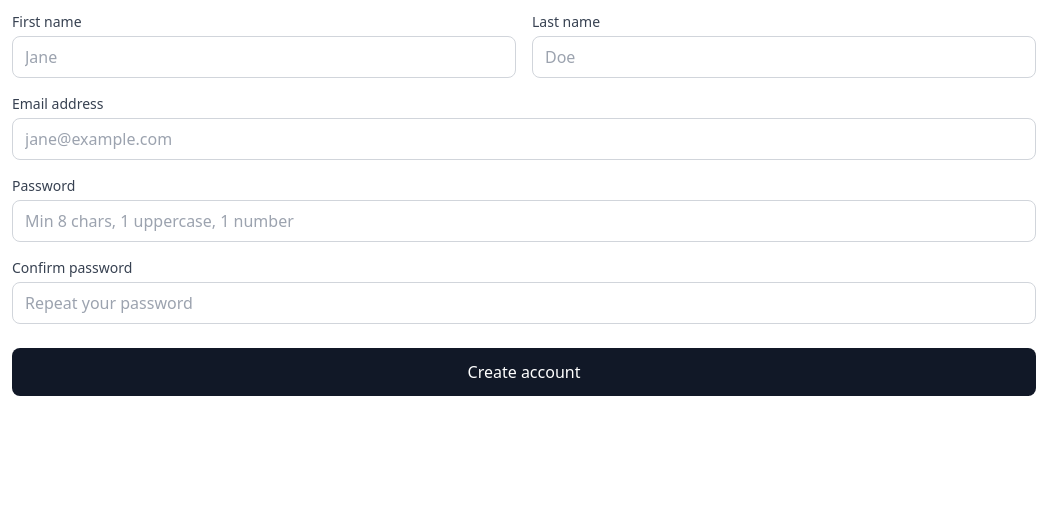
Test: RegisterForm › shows error when passwords do not match
In the password field labelled "Password": (524, 221) top-left (12, 200), bottom-right (1036, 242), type "Password1"
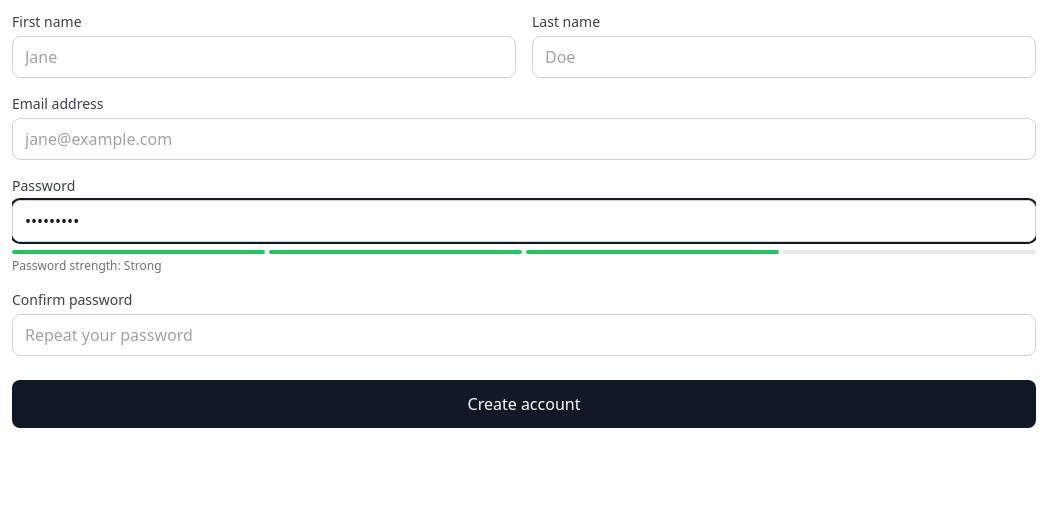
In the password field labelled "Confirm password": (524, 335) top-left (12, 314), bottom-right (1036, 356), type "DifferentPass1"
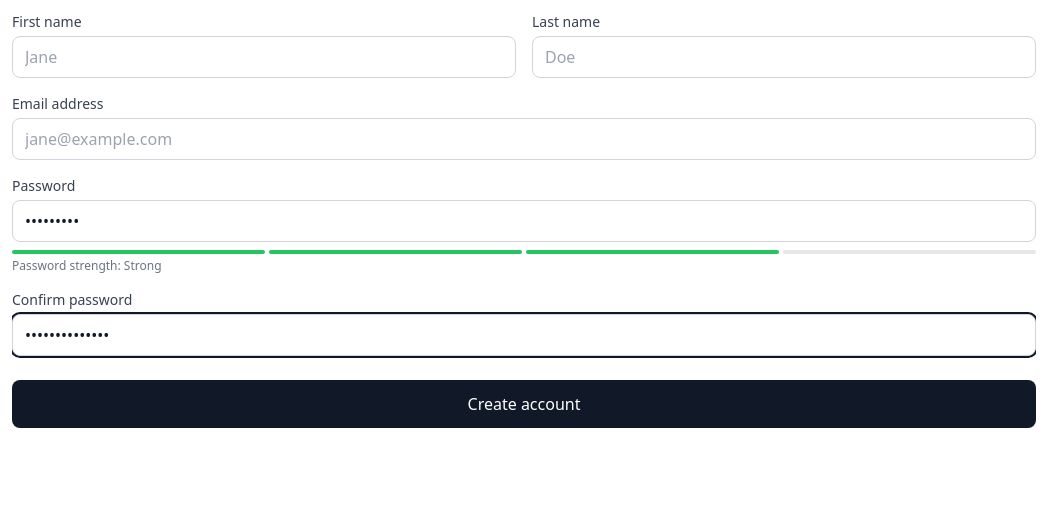
Click the button "Create account": click(524, 404) top-left (12, 380), bottom-right (1036, 428)
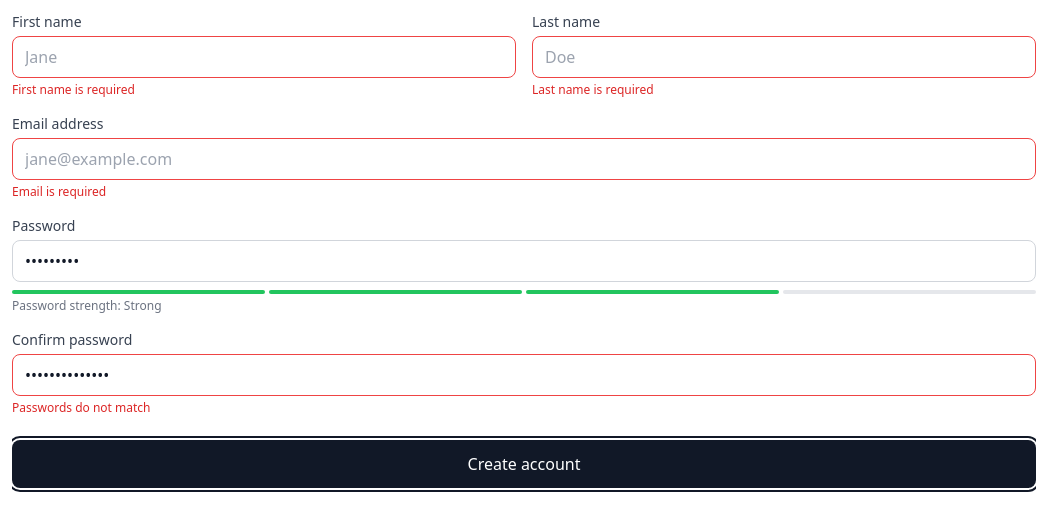
Check: the text "Passwords do not match" is shown, box top-left (12, 399), bottom-right (150, 416)
